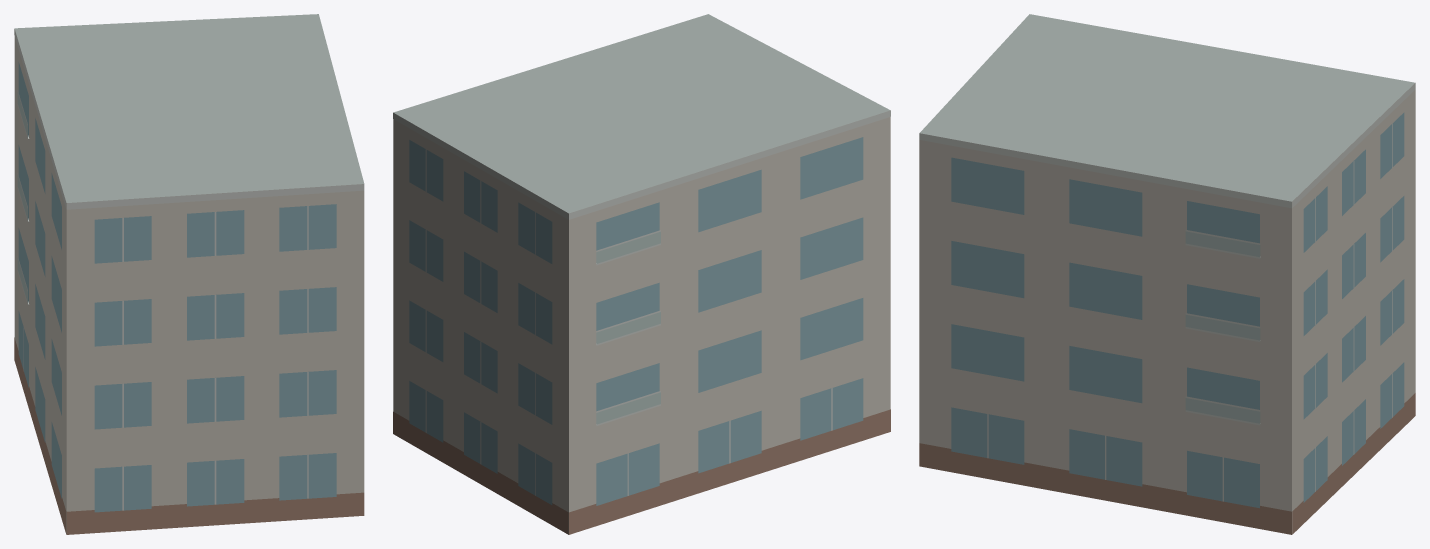
Rendered from survey-upis-32747119.glb.
3 renders of one model, left to right at view 1: azimuth 30°, elevation 25°; view 2: azimuth 150°, elevation 25°; view 3: azimuth 270°, elevation 25°, orthographic. The views are drawn at different scales.
Visible parts, largest first — view 1: survey-upis-32747119.tmp; view 2: survey-upis-32747119.tmp; view 3: survey-upis-32747119.tmp.
Boxes of the visible parts, left/top/right/bottom form: survey-upis-32747119.tmp: left=14, top=14, right=364, bottom=534; survey-upis-32747119.tmp: left=393, top=14, right=890, bottom=534; survey-upis-32747119.tmp: left=919, top=14, right=1415, bottom=534.
Bounding box in the file's own units: 14.75 × 12.2 × 16.47.
